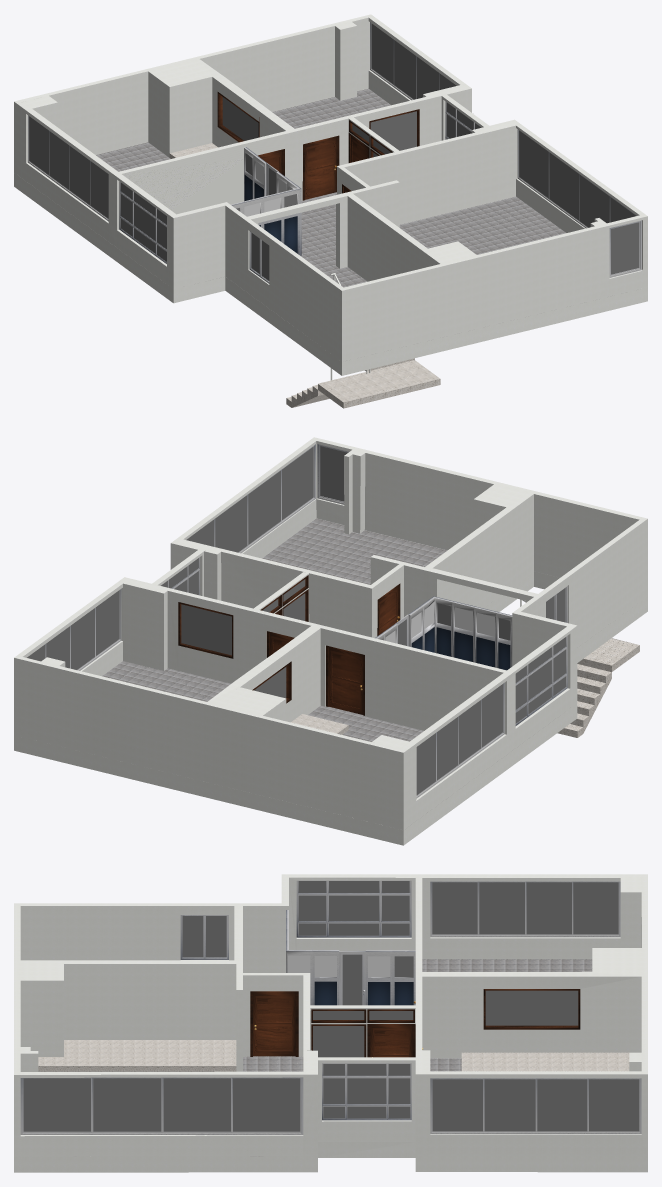
The model's file is Piso4SinObjetos.FBX.
3 views of the same model, one above another, from view 1: azimuth 30°, elevation 25°; view 2: azimuth 150°, elevation 25°; view 3: azimuth 270°, elevation 25° (orthographic). The views are drawn at different scales.
Visible parts, largest first — view 1: Paredes, Suelo, Vidrio (×5), Escaleras, ParedOficina, puerta, Vidrio013, Vidrio016, VentanaIntermedio2, Vidrio012, Vidrio009, Vidrio010 (+2 smaller); view 2: Paredes, Suelo, Vidrio (×6), ParedOficina, Escaleras, puerta001, Vidrio015, Vidrio014, Vidrio010, Vidrio011, Vidrio012, Vidrio009 (+2 smaller); view 3: Paredes, Vidrio (×10), Suelo, ParedOficina, VentanaIntermedio2, Vidrio014, puerta003, Vidrio013, Vidrio015, Vidrio016, Vidrio009, Vidrio010 (+27 smaller).
Boxes of the visible parts, x1=… form: Paredes: x1=14, y1=14, x2=647, y2=361; Suelo: x1=14, y1=88, x2=647, y2=375; Vidrio (×5): x1=370, y1=111, x2=639, y2=274; Escaleras: x1=286, y1=273, x2=440, y2=408; ParedOficina: x1=231, y1=147, x2=301, y2=256; puerta: x1=305, y1=138, x2=336, y2=199; Vidrio013: x1=371, y1=23, x2=393, y2=83; Vidrio016: x1=394, y1=40, x2=415, y2=99; VentanaIntermedio2: x1=222, y1=97, x2=258, y2=140; Vidrio012: x1=49, y1=131, x2=69, y2=189; Vidrio009: x1=29, y1=116, x2=48, y2=174; Vidrio010: x1=70, y1=146, x2=89, y2=204; Paredes: x1=14, y1=437, x2=647, y2=830; Suelo: x1=14, y1=518, x2=647, y2=845; Vidrio (×6): x1=181, y1=446, x2=551, y2=700; ParedOficina: x1=375, y1=596, x2=512, y2=670; Escaleras: x1=520, y1=599, x2=639, y2=737; puerta001: x1=328, y1=647, x2=363, y2=714; Vidrio015: x1=96, y1=590, x2=119, y2=655; Vidrio014: x1=71, y1=608, x2=94, y2=669; Vidrio010: x1=459, y1=700, x2=480, y2=764; Vidrio011: x1=481, y1=684, x2=502, y2=747; Vidrio012: x1=437, y1=717, x2=458, y2=780; Vidrio009: x1=416, y1=733, x2=435, y2=794; Paredes: x1=14, y1=874, x2=647, y2=1156; Vidrio (×10): x1=23, y1=881, x2=409, y2=1131; Suelo: x1=14, y1=959, x2=647, y2=1172; ParedOficina: x1=286, y1=910, x2=415, y2=1005; VentanaIntermedio2: x1=485, y1=990, x2=578, y2=1025; Vidrio014: x1=484, y1=1079, x2=535, y2=1131; puerta003: x1=253, y1=993, x2=295, y2=1056; Vidrio013: x1=589, y1=1079, x2=639, y2=1131; Vidrio015: x1=432, y1=1079, x2=482, y2=1131; Vidrio016: x1=537, y1=1079, x2=587, y2=1131; Vidrio009: x1=573, y1=882, x2=618, y2=934; Vidrio010: x1=479, y1=882, x2=524, y2=934.
Bounding box in the file's own units: 498 × 211 × 665.
Materials: 12 (10 with a texture image).
